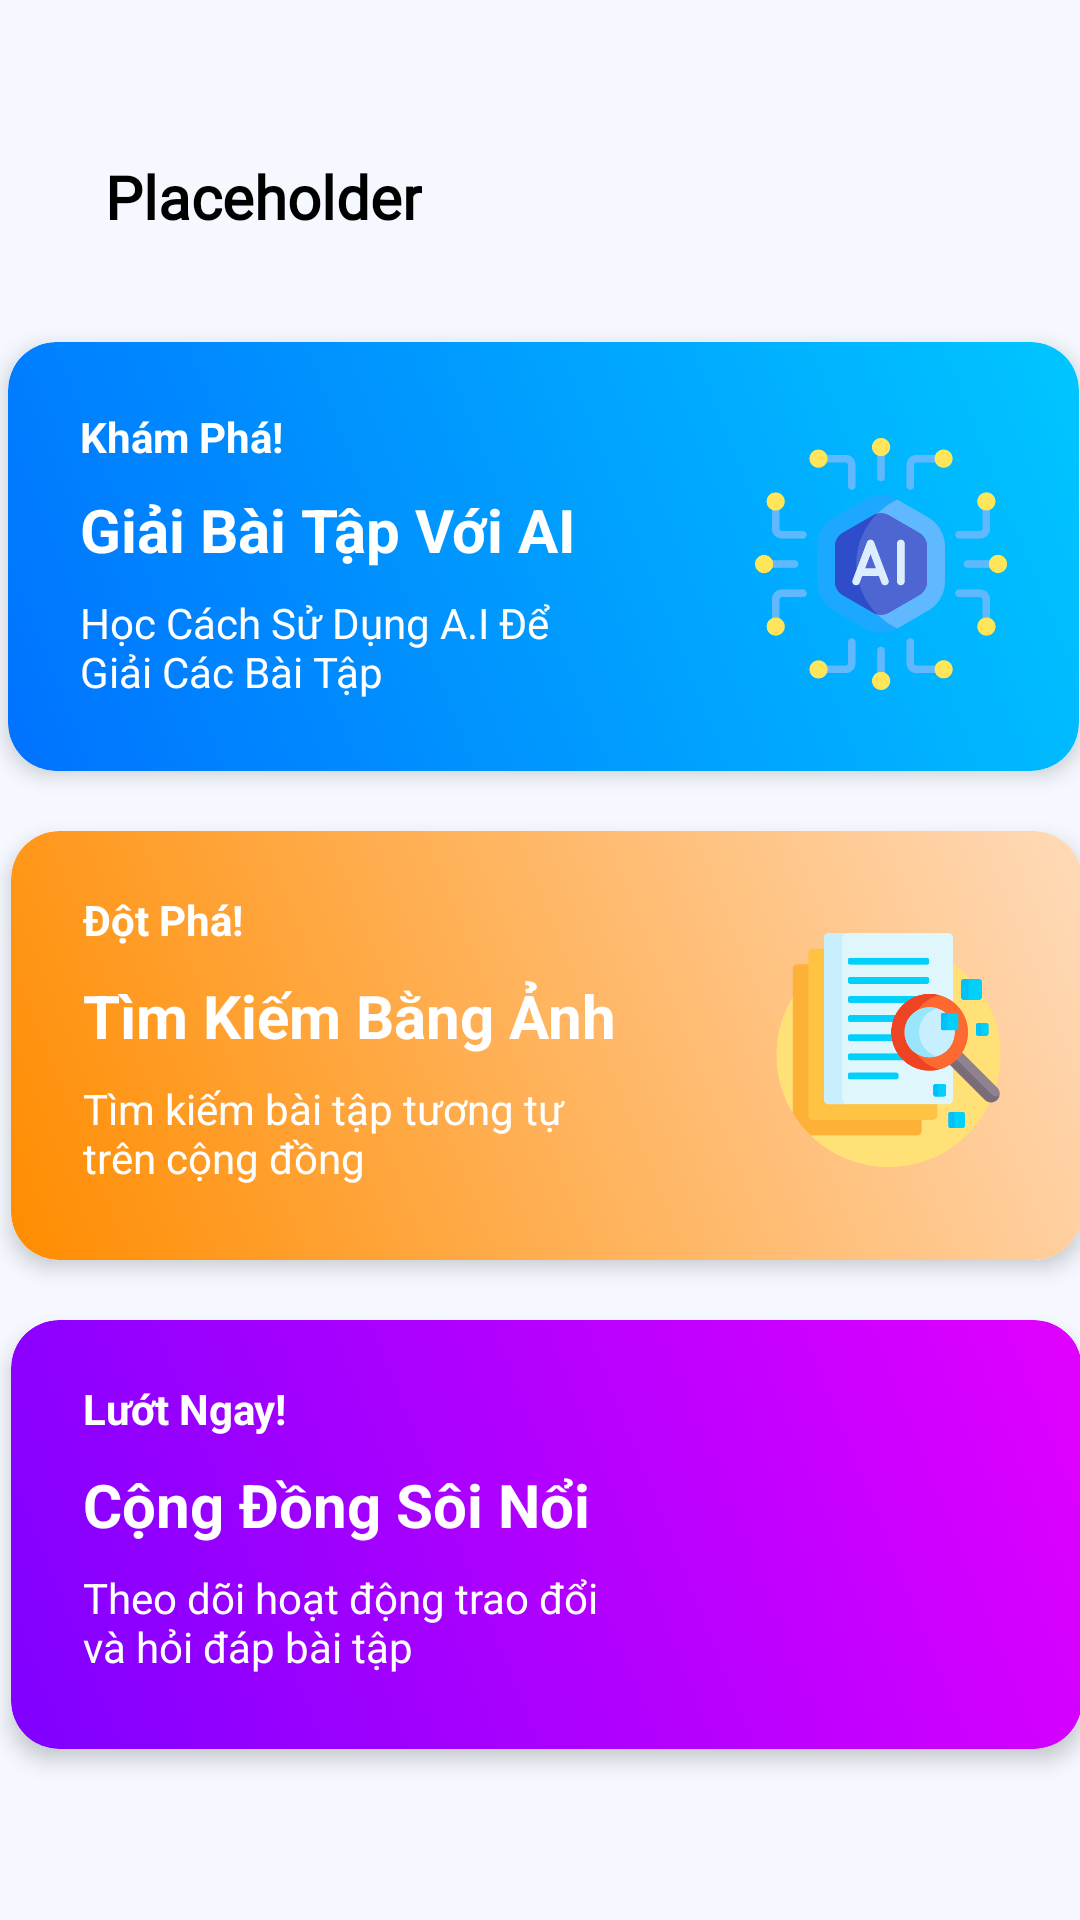

Icon click points for this 1080 × 1920 phone screenshot, format (x,y):
file search: (888,1050)
